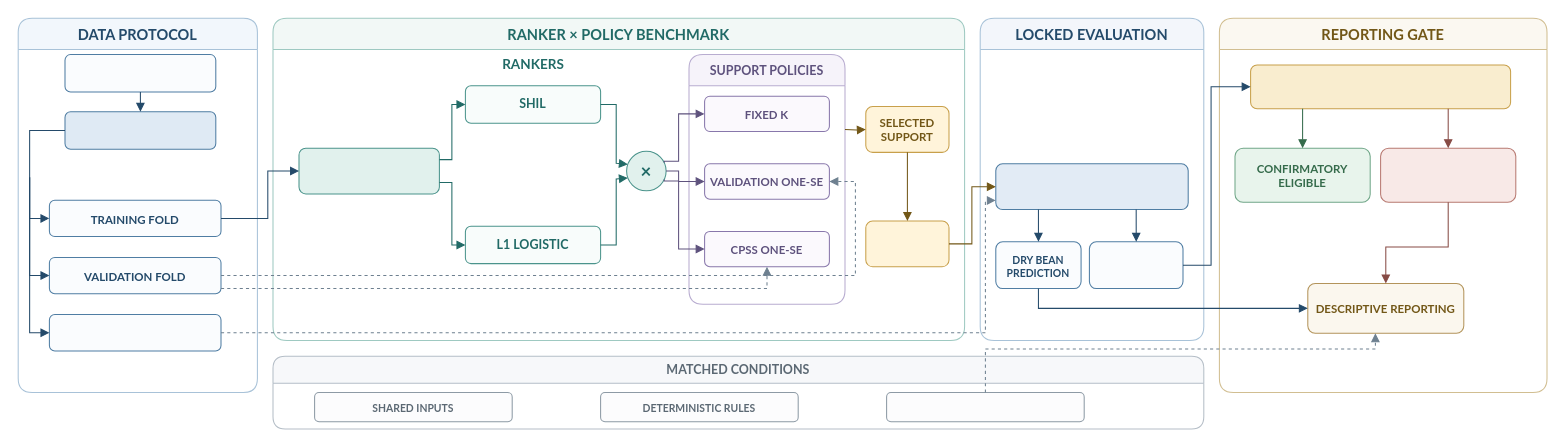
Some shapes in this 1565 by 447 pixel diagram are drawn without their labels. The shapes that lost their labels are listed below. From the top down, each one's centre as x and y in pixels, then its label:
At (x=140, y=73): "INPUT DATA".
At (x=1380, y=86): "COMPLETENESS GATE".
At (x=140, y=130): "OUTER SPLIT".
At (x=368, y=170): "CANDIDATE UNIVERSE".
At (x=1091, y=186): "HELD-OUT EVALUATION".
At (x=1448, y=174): "UNAVAILABLE".
At (x=907, y=243): "COMMON L2 REFIT".
At (x=1135, y=265): "SYNTHETIC RECOVERY".
At (x=134, y=332): "LOCKED TEST FOLD".
At (x=985, y=407): "BOUNDARY CHECKS".
